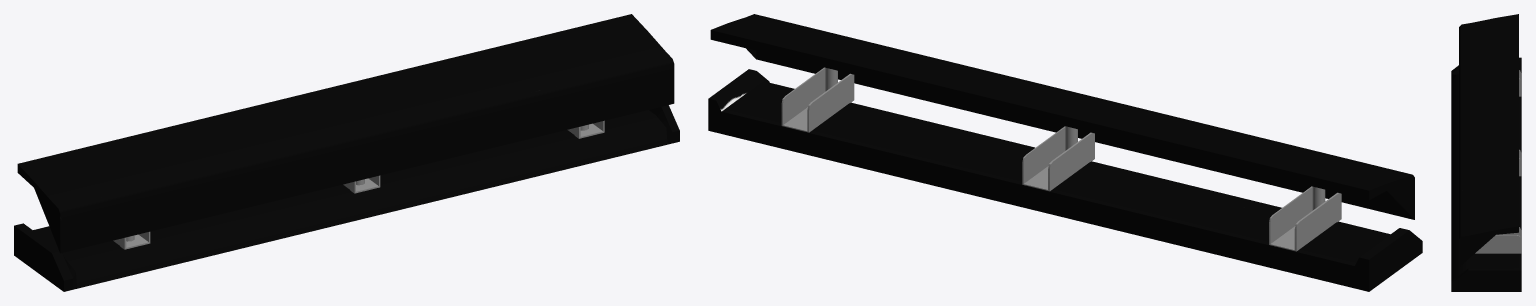
Rendered from HolePunch_1.fbx.
The picture shows the model from 3 angles, left to right: view 1: azimuth 30°, elevation 25°; view 2: azimuth 150°, elevation 25°; view 3: azimuth 270°, elevation 25°; orthographic projection. The views are drawn at different scales.
Visible parts, largest first — view 1: HolePunch_1; view 2: HolePunch_1; view 3: HolePunch_1.
Boxes of the visible parts, <box> form: HolePunch_1: <box>14,14,679,291</box>; HolePunch_1: <box>708,14,1422,291</box>; HolePunch_1: <box>1451,14,1521,291</box>.
Size of the model in its own units: 30.36 by 4.36 by 4.25.
